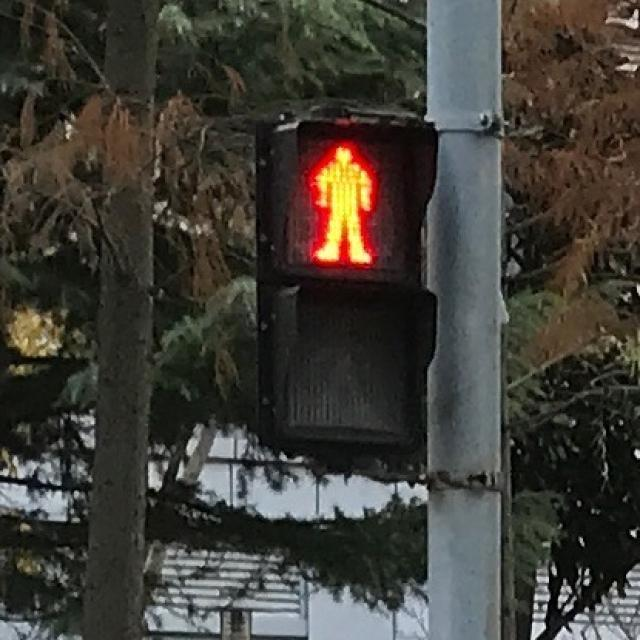red-crossing: (309, 136, 376, 262)
